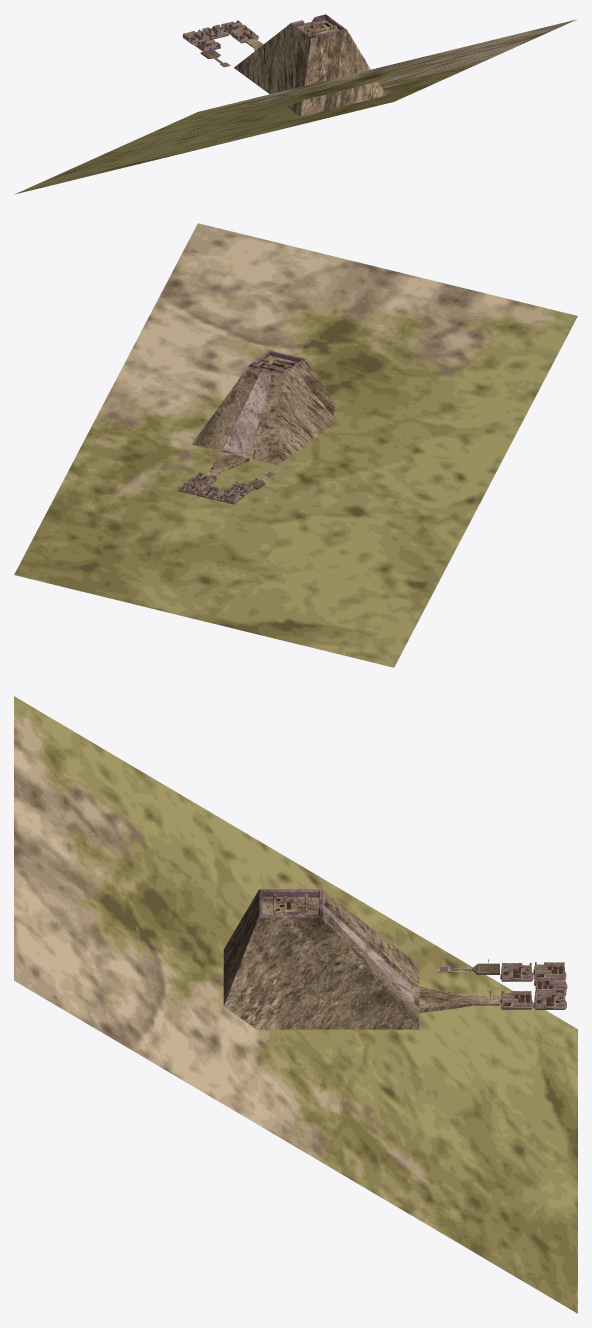
The model's file is temple_course-C31Ljkjb.glb.
3 views of the same model, one above another, from view 1: azimuth 30°, elevation 25°; view 2: azimuth 150°, elevation 25°; view 3: azimuth 270°, elevation 25° (orthographic). The views are drawn at different scales.
Parts seen in each view (by area): view 1: course.solid.{}, rotator4.solid.{"animated":true,"static":false}.001, rotator.solid.{"animated":true,"static":false}, rotator3.solid.{"animated":true,"static":false}; view 2: course.solid.{}; view 3: course.solid.{}.
Part boxes in pixels (left/top/right/bottom): course.solid.{}: left=15, top=14, right=576, bottom=194; rotator4.solid.{"animated":true,"static":false}.001: left=194, top=37, right=220, bottom=51; rotator.solid.{"animated":true,"static":false}: left=231, top=28, right=258, bottom=43; rotator3.solid.{"animated":true,"static":false}: left=202, top=24, right=228, bottom=39; course.solid.{}: left=14, top=223, right=577, bottom=667; course.solid.{}: left=14, top=696, right=577, bottom=1313.
Bounding box in the file's own units: 618 × 338 × 518.
2 materials, 2 textured.
